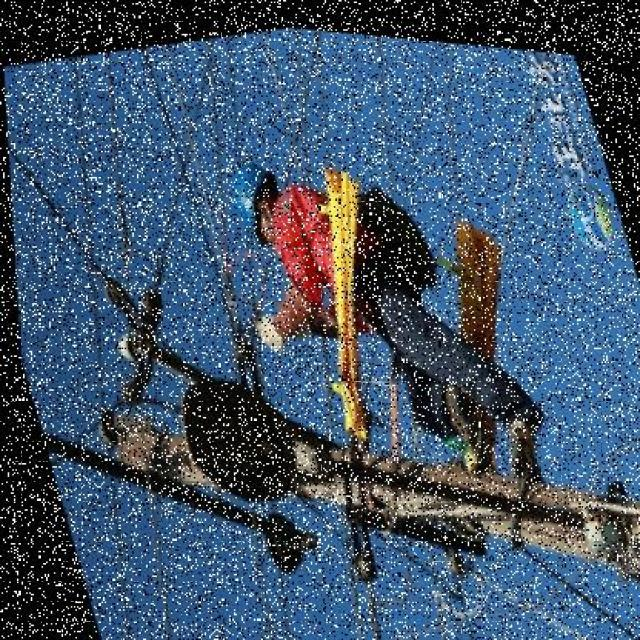helmet: (220, 151, 280, 245)
